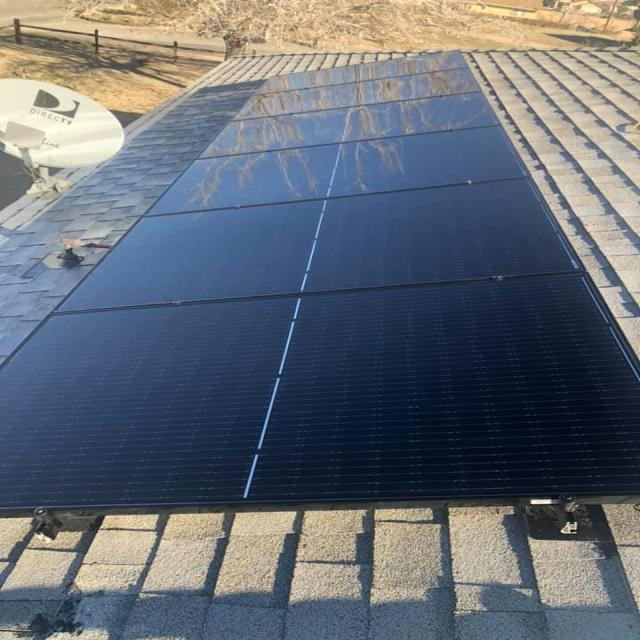clean-solar-panel: (2, 50, 638, 518)
